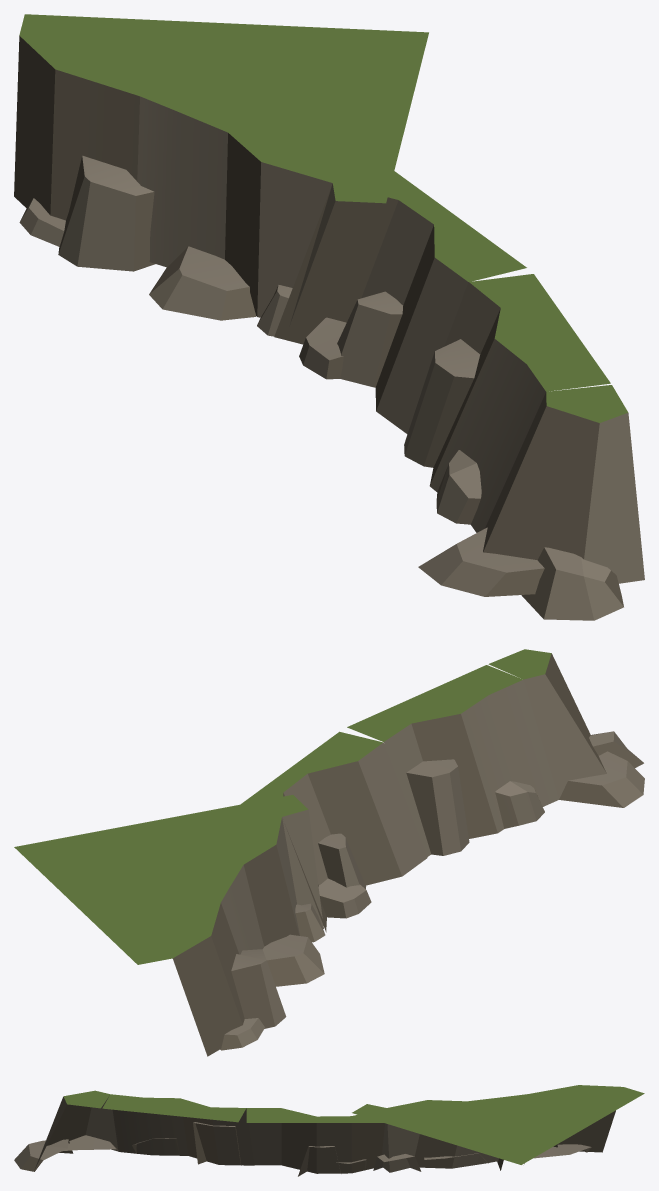
The model's file is Mountain26.fbx.
3 renders of one model, top to bottom at view 1: azimuth 30°, elevation 25°; view 2: azimuth 150°, elevation 25°; view 3: azimuth 270°, elevation 25°, orthographic. The views are drawn at different scales.
Parts seen in each view (by area): view 1: Mountain26; view 2: Mountain26; view 3: Mountain26.
Boxes of the visible parts, x1,y1,x2,y2 form: Mountain26: (14, 14, 644, 620); Mountain26: (14, 649, 644, 1056); Mountain26: (14, 1085, 644, 1176).
Size of the model in its own units: 35.21 by 12.17 by 90.13.
